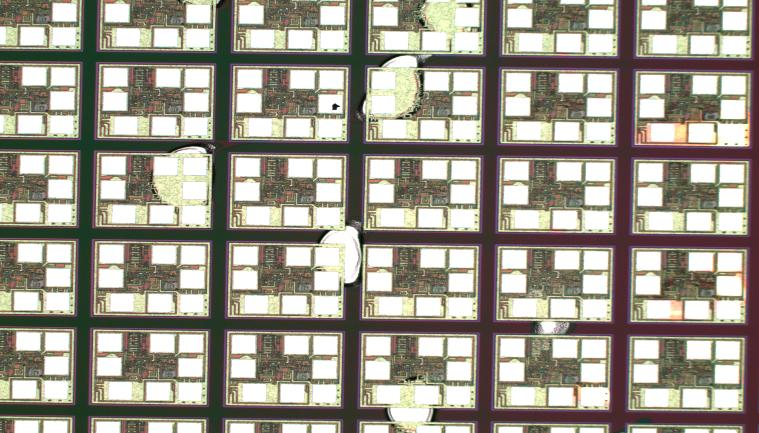COATING BAD: (146, 1, 583, 433)
